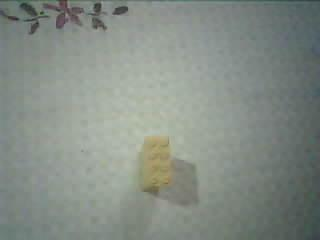lego: (136, 134, 174, 192)
